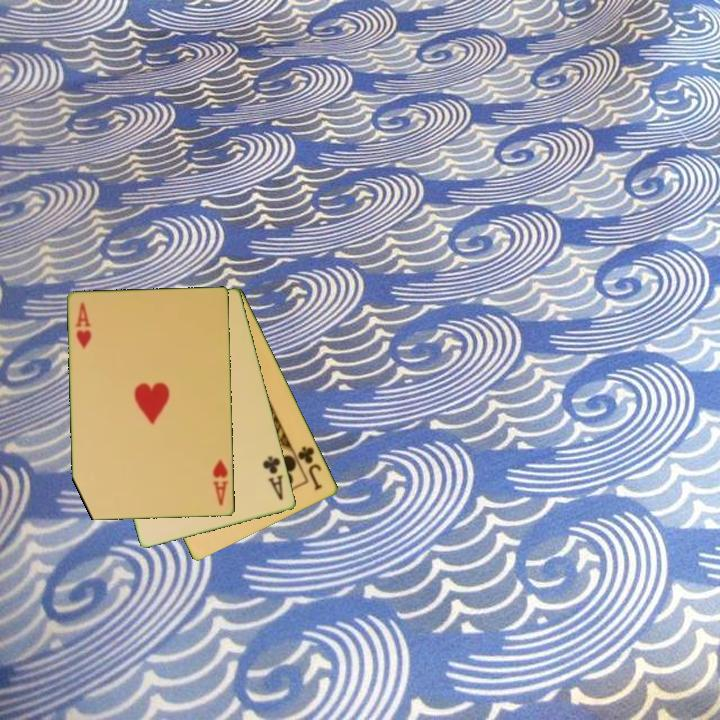Ac: (259, 452, 286, 503)
Ah: (209, 456, 231, 509), (72, 299, 94, 352)
Jc: (294, 443, 326, 493)
